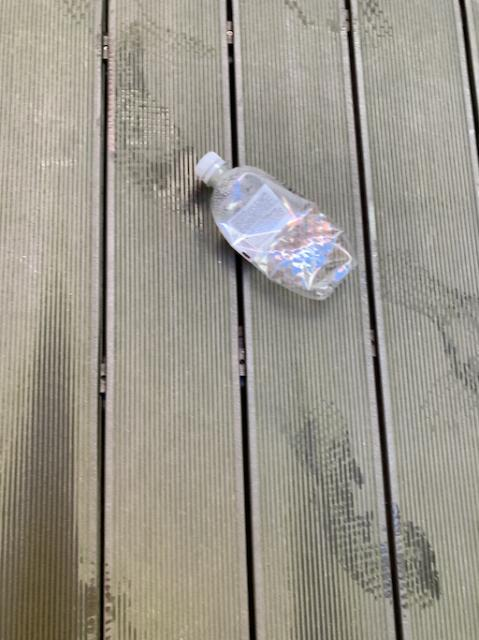plastic: (195, 151, 352, 298)
